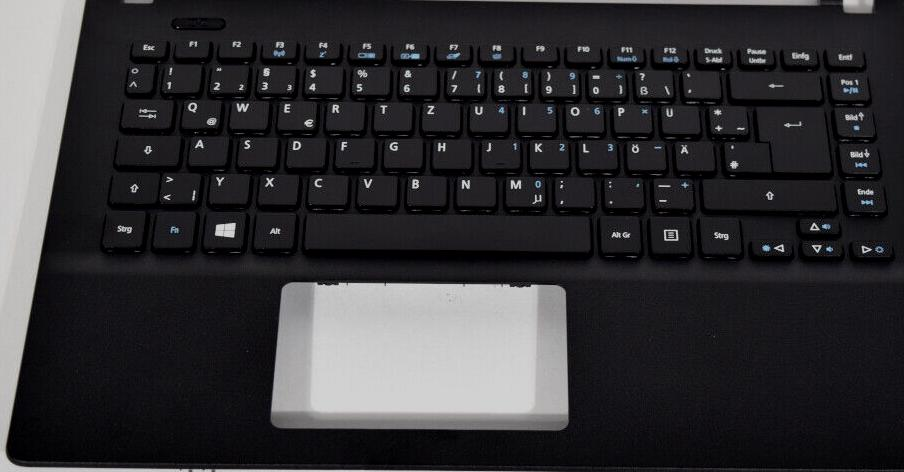0: (586, 70, 628, 100)
1: (159, 63, 201, 96)
2: (207, 65, 249, 97)
3: (255, 64, 297, 96)
4: (302, 65, 343, 97)
5: (349, 67, 390, 97)
6: (396, 67, 437, 97)
7: (443, 67, 486, 98)
8: (491, 68, 533, 98)
9: (538, 68, 581, 99)
a: (186, 136, 229, 168)
accent: (680, 69, 722, 101)
ae: (672, 141, 716, 174)
alt-left: (251, 211, 298, 253)
altgr-right: (597, 214, 642, 257)
b: (403, 175, 448, 209)
c: (305, 174, 349, 209)
caret: (123, 64, 154, 94)
comma: (552, 176, 595, 211)
d: (283, 137, 326, 170)
del: (726, 71, 823, 101)
e: (275, 99, 318, 132)
enter: (762, 107, 832, 174)
f: (332, 137, 375, 170)
g: (380, 138, 423, 171)
h: (429, 139, 473, 171)
hash: (722, 141, 769, 174)
i: (514, 102, 558, 135)
j: (478, 139, 521, 172)
k: (527, 139, 569, 172)
keyboard: (85, 30, 904, 275)
l: (575, 140, 618, 173)
less: (159, 172, 202, 206)
m: (503, 176, 547, 210)
minus: (650, 179, 696, 213)
n: (452, 176, 497, 210)
o: (563, 104, 605, 135)
oe: (624, 141, 667, 173)
p: (610, 104, 653, 136)
plus: (706, 106, 750, 137)
point: (601, 178, 645, 211)
q: (179, 100, 223, 130)
r: (323, 100, 365, 132)
s: (235, 137, 278, 168)
shift-left: (107, 172, 159, 205)
shift-lock: (113, 135, 181, 167)
shift-right: (699, 178, 839, 213)
space: (300, 213, 595, 253)
ss: (632, 69, 674, 100)
strg-left: (100, 210, 147, 251)
strg-right: (698, 216, 745, 260)
t: (371, 102, 413, 132)
tab: (119, 99, 174, 130)
u: (466, 102, 509, 135)
ue: (658, 104, 701, 136)
v: (355, 175, 398, 209)
w: (228, 99, 270, 131)
x: (255, 174, 299, 208)
y: (206, 172, 250, 206)
z: (418, 102, 461, 133)
